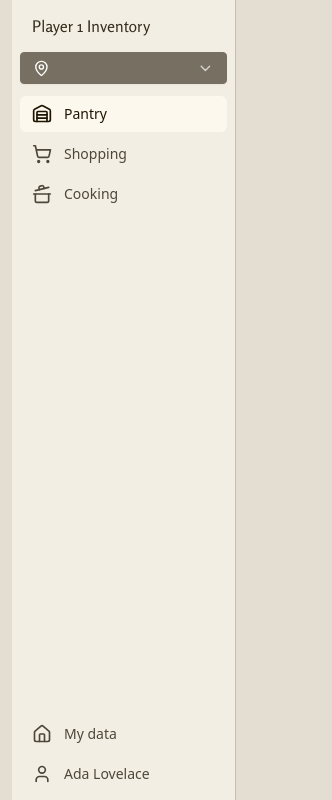
Test: Sidebar › user in cloud mode sees their name on the 👤 button and their account in the user view
# When the user presses the 👤 button, which carries their name
Click the button "Ada Lovelace".
click(124, 774)  # box [20,756,227,792]
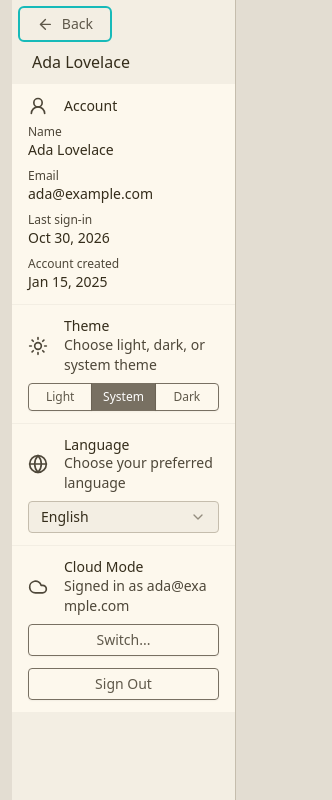
expect the heading "Ada Lovelace" is shown: met, box [32,51,130,73]
expect the text "ada@example.com" is shown: met, box [28,184,153,203]
expect the text "Oct 30, 2026" is shown: met, box [28,228,110,247]
